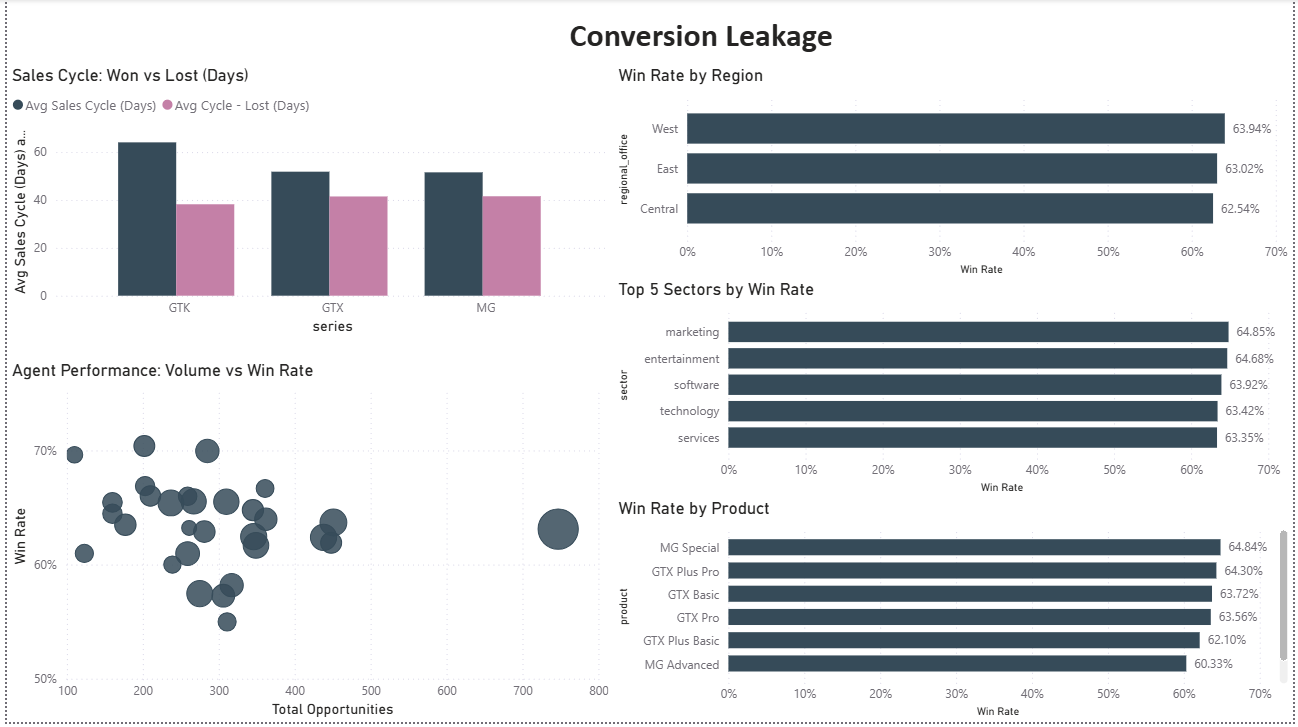

What the dashboard file says about the page in this screenshot:
{"tool":"powerbi","page":{"name":"Conversion Leakage","canvas":[1280,720],"ordinal":1},"visuals":[{"type":"clusteredBarChart","title":"Win Rate by Region","fields":{"Category":["sales_team.regional_office","sales_team.manager","sales_team.sales_agent"],"Y":["_Measures.Win Rate"]},"box":[603.8,65.9,676.5,214.1],"z":0},{"type":"clusteredBarChart","title":"Win Rate by Product","fields":{"Category":["products.product"],"Y":["_Measures.Win Rate"]},"box":[603.8,496.7,676.5,223.7],"z":1000},{"type":"clusteredBarChart","title":"Top 5 Sectors by Win Rate","fields":{"Y":["_Measures.Win Rate"],"Category":["accounts.sector"]},"box":[603.8,278.6,676.5,218.2],"z":2000},{"type":"clusteredColumnChart","title":"Sales Cycle: Won vs Lost (Days)","fields":{"Y":["_Measures.Avg Sales Cycle (Days)","_Measures.Avg Cycle - Lost (Days)"],"Category":["products.series"]},"box":[0,65.9,603.8,273.1],"z":3000},{"type":"scatterChart","title":"Agent Performance: Volume vs Win Rate","fields":{"X":["_Measures.Total Opportunities"],"Y":["_Measures.Win Rate"],"Size":["_Measures.Revenue (Won)"],"Category":["sales_team.sales_agent"]},"box":[0,359.5,603.8,360.9],"z":4000},{"type":"textbox","box":[492.6,11,396.6,54.9],"z":5000}]}

Visuals, with their boxes in screenshot pixels (x1, y1, x2, y2), scaled from the page's 1280x720 canvas onto the 1298x727 screenshot:
"Win Rate by Region" clusteredBarChart: l=612, t=67, r=1297, b=283
"Win Rate by Product" clusteredBarChart: l=612, t=502, r=1297, b=726
"Top 5 Sectors by Win Rate" clusteredBarChart: l=612, t=281, r=1297, b=502
"Sales Cycle: Won vs Lost (Days)" clusteredColumnChart: l=0, t=67, r=612, b=342
"Agent Performance: Volume vs Win Rate" scatterChart: l=0, t=363, r=612, b=726
textbox: l=500, t=11, r=902, b=67
